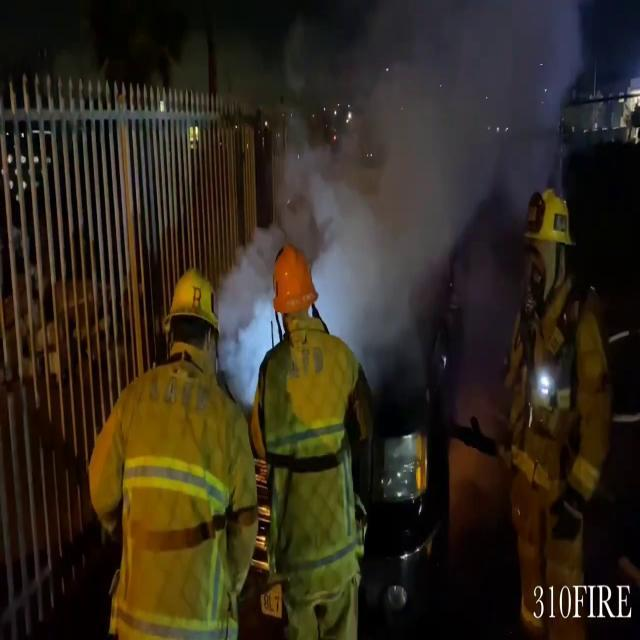Smoke: (273, 0, 555, 315)
